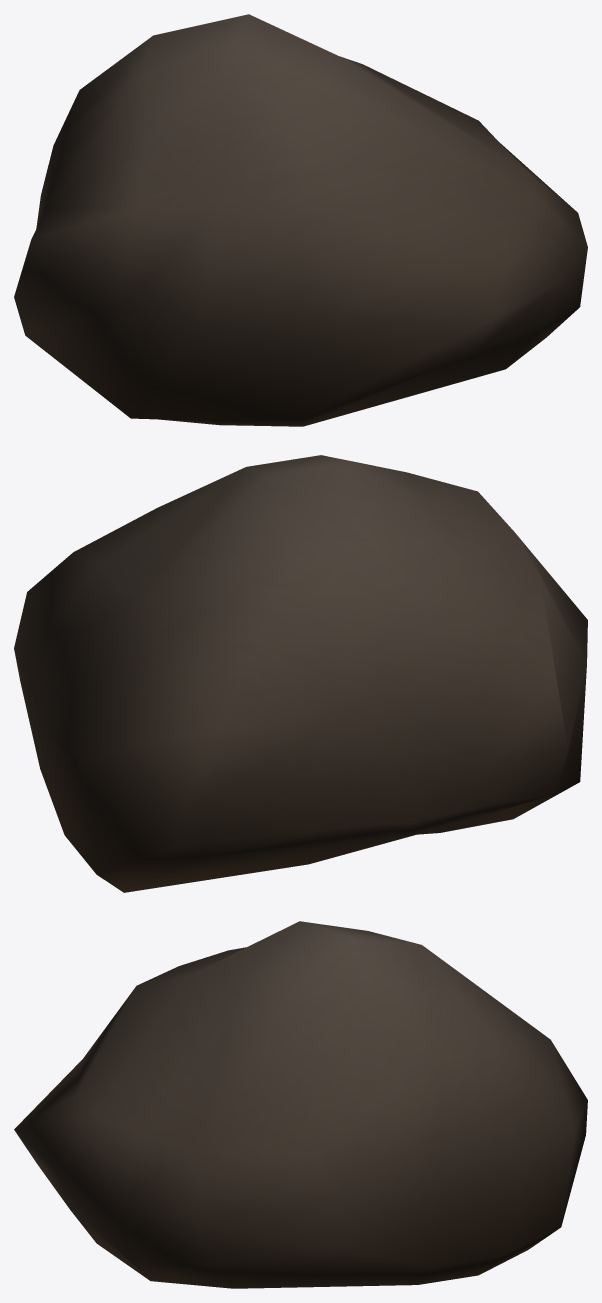
File: roca1.fbx
3 renders of one model, top to bottom at view 1: azimuth 30°, elevation 25°; view 2: azimuth 150°, elevation 25°; view 3: azimuth 270°, elevation 25°, orthographic. The views are drawn at different scales.
Parts seen in each view (by area): view 1: roca1; view 2: roca1; view 3: roca1.
Boxes of the visible parts, bbox=[...] form: roca1: bbox=[14, 14, 587, 426]; roca1: bbox=[14, 455, 587, 892]; roca1: bbox=[14, 921, 587, 1288].
Bounding box in the file's own units: 115 × 75.16 × 125.
1 material, 1 textured.
